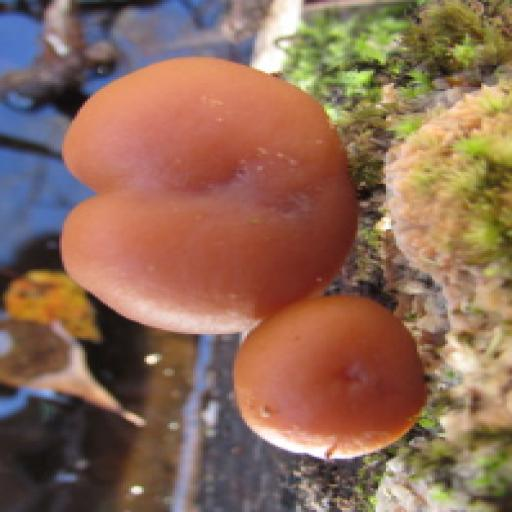Funeral Bell: (57, 51, 426, 464)
